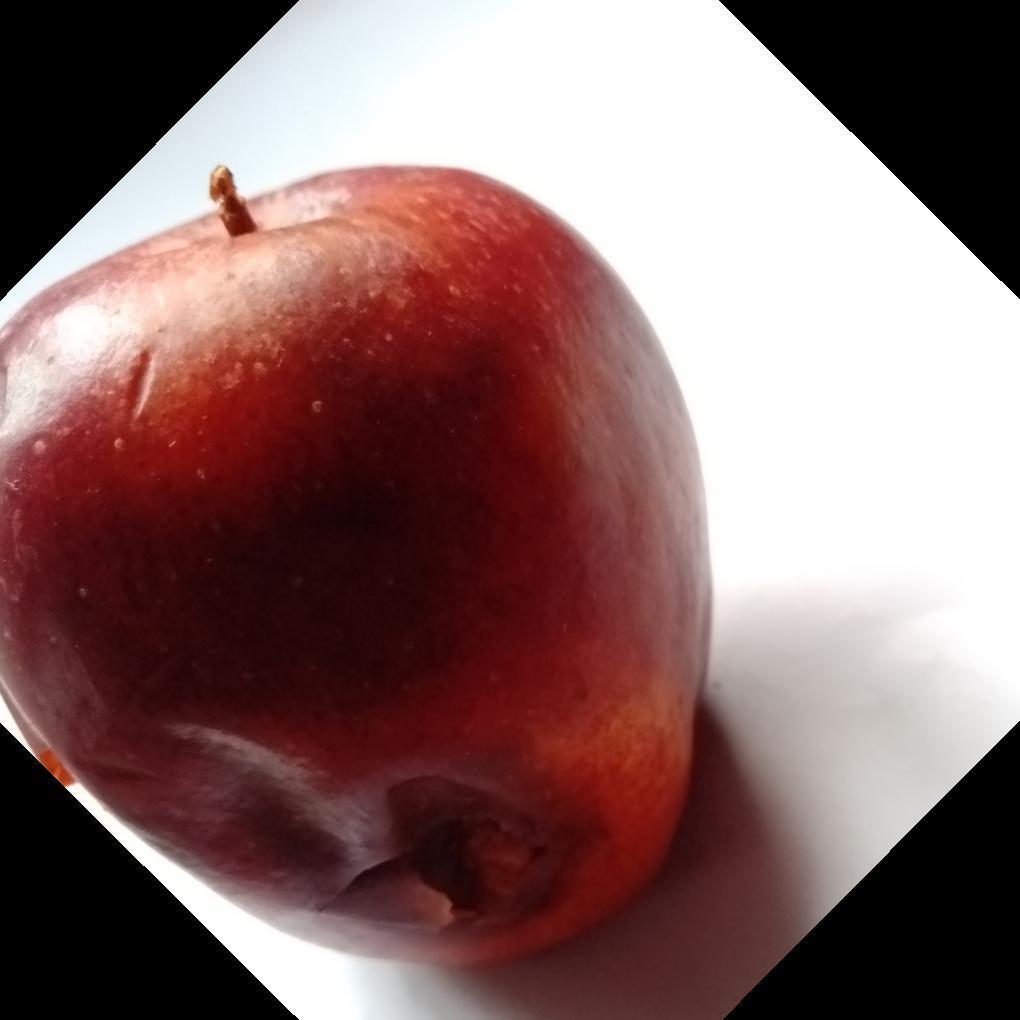FreshOrange: (0, 166, 716, 973)
